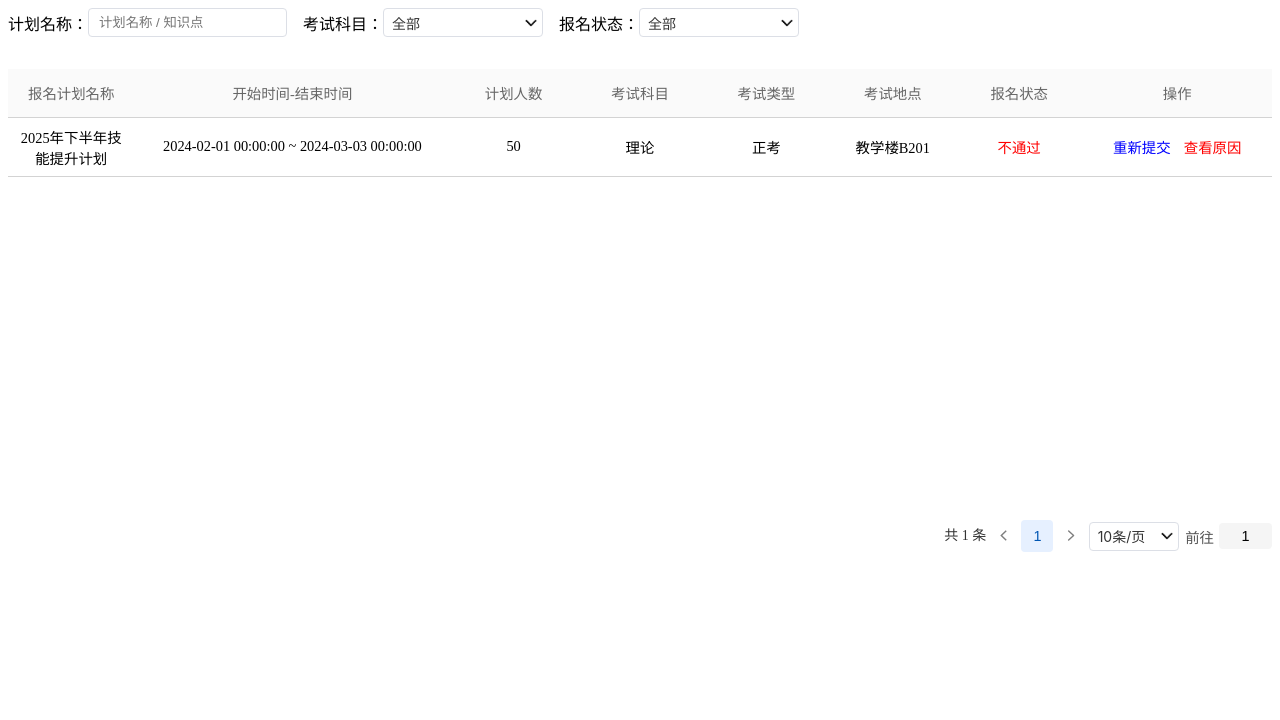
Test: 报名管理页面 › 测试查看原因按钮功能
Expected: the text "2025年下半年技能提升计划" is shown, [8,117,134,176]
点击查看原因按钮
Click the button "查看原因": (1213, 146) [1179,136,1246,157]
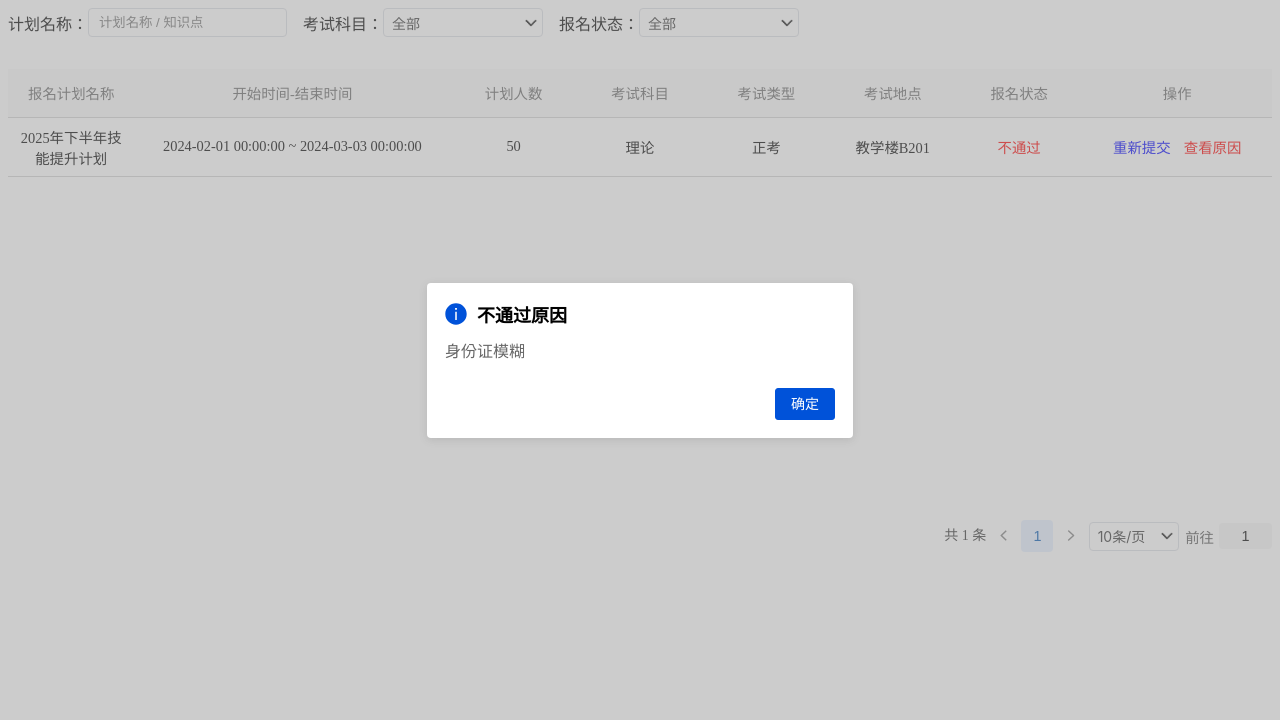
Expected: the text "不通过原因" is shown, [445,302,567,326]
Expected: the text "身份证模糊" is shown, [445,342,525,360]
点击确定按钮关闭
Click the button "确定": (805, 404) [775,388,835,420]
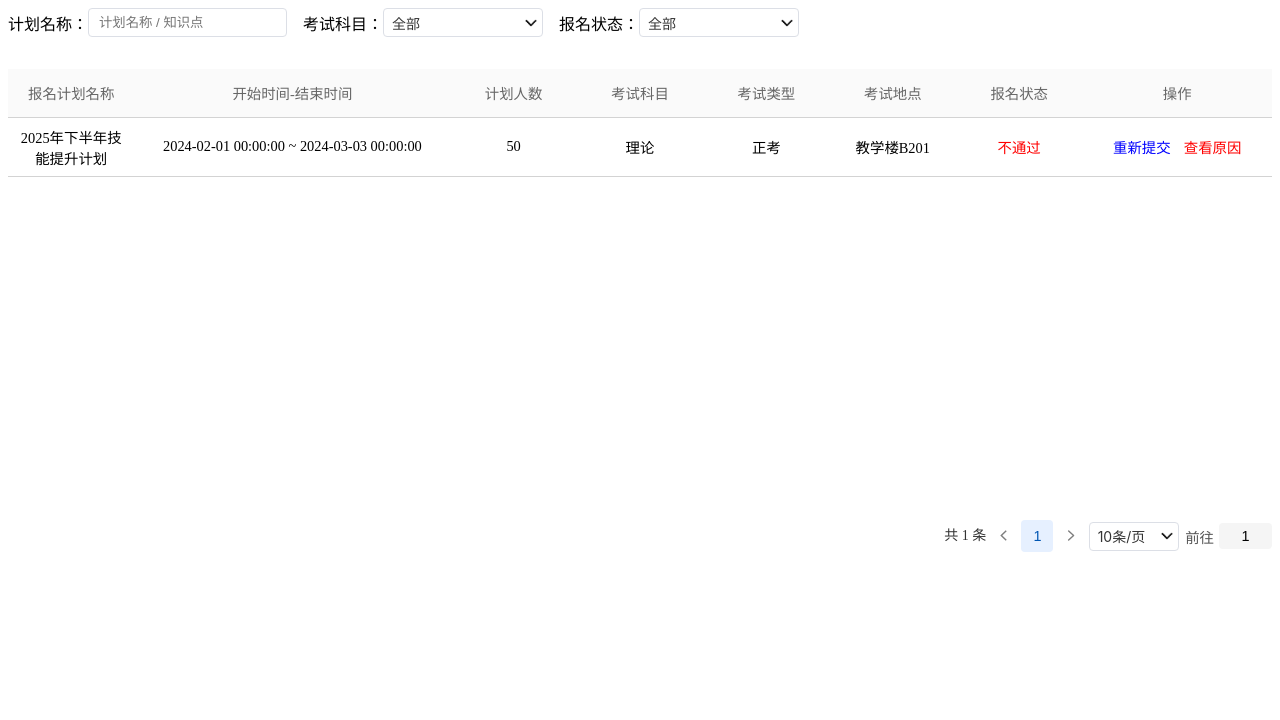
Expected: the button "身份证模糊" is gone
